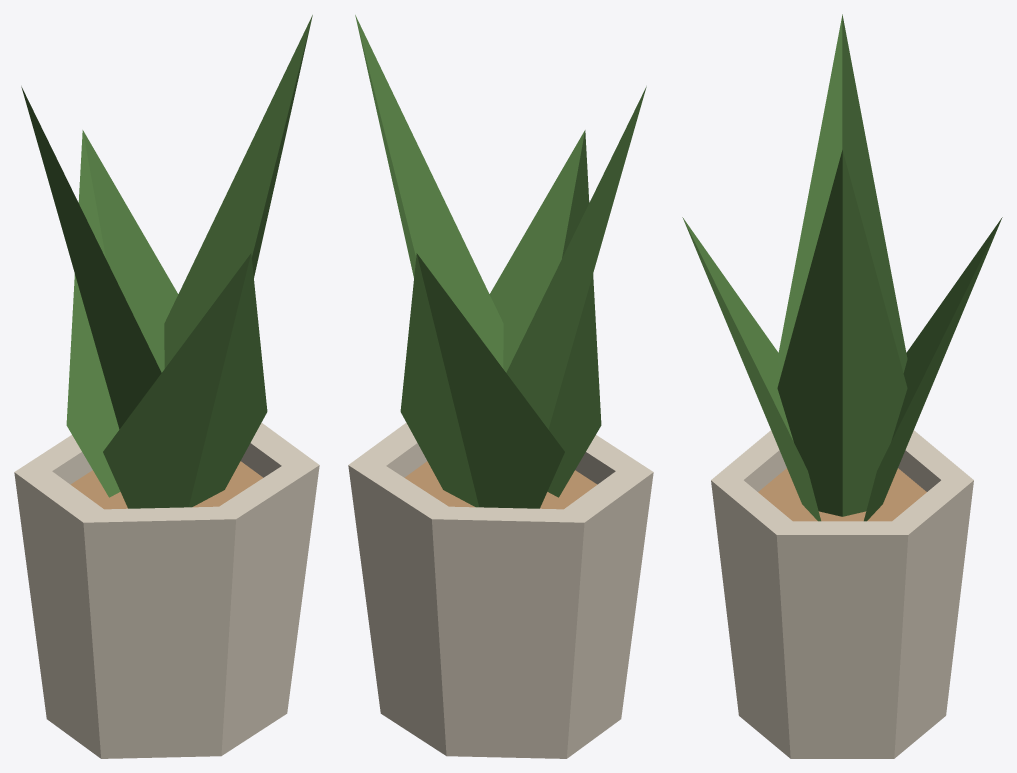
Rendered from potted-plant.glb.
3 renders of one model, left to right at view 1: azimuth 30°, elevation 25°; view 2: azimuth 150°, elevation 25°; view 3: azimuth 270°, elevation 25°, orthographic. The views are drawn at different scales.
Visible parts, largest first — view 1: potted-plant (×2); view 2: potted-plant (×2); view 3: potted-plant (×2).
Boxes of the visible parts, x1,y1,x2,y2 form: potted-plant (×2): [14, 15, 319, 758]; potted-plant (×2): [348, 15, 653, 758]; potted-plant (×2): [682, 14, 1002, 758].
Size of the model in its own units: 0.55 by 1.2 by 0.55.
